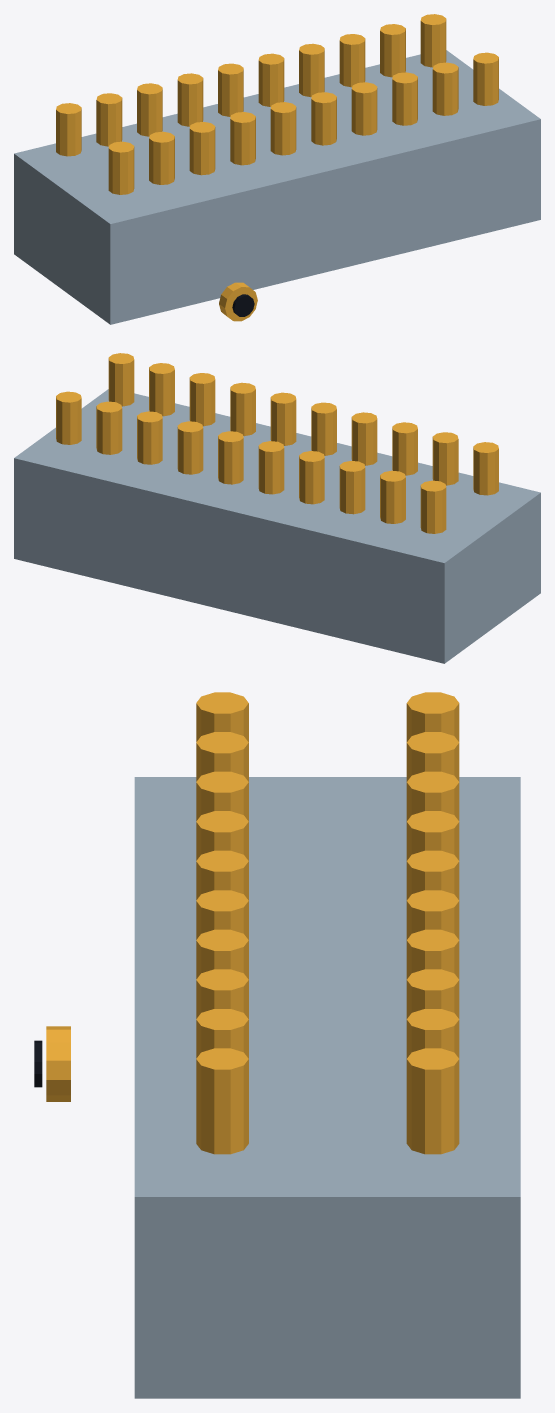
File: 41_L86_CaptiveFastenerAndBoltRack.fbx
3 views of the same model, one above another, from view 1: azimuth 30°, elevation 25°; view 2: azimuth 150°, elevation 25°; view 3: azimuth 270°, elevation 25° (orthographic). The views are drawn at different scales.
Parts seen in each view (by area): view 1: L86_CaptiveFastenerAndBoltRack_Part_0000, L86_CaptiveFastenerAndBoltRack_Part_0001, L86_CaptiveFastenerAndBoltRack_Part_0002, L86_CaptiveFastenerAndBoltRack_Part_0003, L86_CaptiveFastenerAndBoltRack_Part_0004; view 2: L86_CaptiveFastenerAndBoltRack_Part_0000, L86_CaptiveFastenerAndBoltRack_Part_0001, L86_CaptiveFastenerAndBoltRack_Part_0002; view 3: L86_CaptiveFastenerAndBoltRack_Part_0000, L86_CaptiveFastenerAndBoltRack_Part_0001, L86_CaptiveFastenerAndBoltRack_Part_0002, L86_CaptiveFastenerAndBoltRack_Part_0003.
Boxes of the visible parts, <box> form: L86_CaptiveFastenerAndBoltRack_Part_0000: <box>14,50,540,324</box>; L86_CaptiveFastenerAndBoltRack_Part_0001: <box>56,14,446,194</box>; L86_CaptiveFastenerAndBoltRack_Part_0002: <box>351,52,498,135</box>; L86_CaptiveFastenerAndBoltRack_Part_0003: <box>219,282,257,321</box>; L86_CaptiveFastenerAndBoltRack_Part_0004: <box>232,294,254,316</box>; L86_CaptiveFastenerAndBoltRack_Part_0000: <box>14,389,540,663</box>; L86_CaptiveFastenerAndBoltRack_Part_0001: <box>56,391,498,533</box>; L86_CaptiveFastenerAndBoltRack_Part_0002: <box>108,353,255,436</box>; L86_CaptiveFastenerAndBoltRack_Part_0000: <box>134,777,520,1398</box>; L86_CaptiveFastenerAndBoltRack_Part_0001: <box>196,692,459,1154</box>; L86_CaptiveFastenerAndBoltRack_Part_0002: <box>196,929,248,1154</box>; L86_CaptiveFastenerAndBoltRack_Part_0003: <box>46,1026,70,1101</box>.
Size of the model in its own units: 170 by 60.62 by 83.2.
